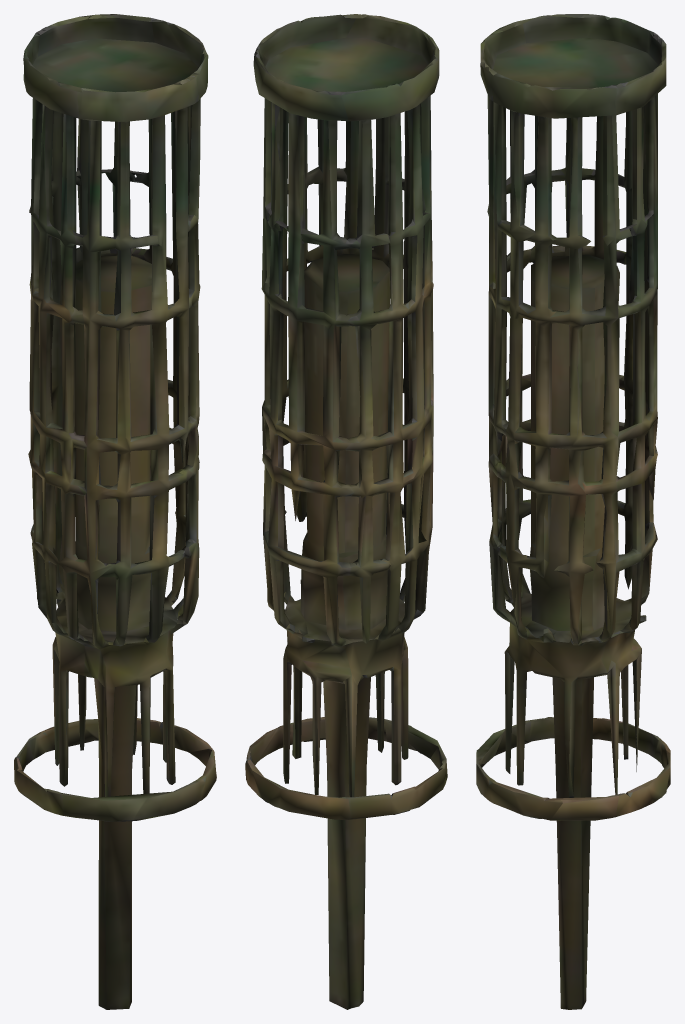
Rendered from sturdy-bronze-wall-torch-v002.glb.
The picture shows the model from 3 angles, left to right: view 1: azimuth 30°, elevation 25°; view 2: azimuth 150°, elevation 25°; view 3: azimuth 270°, elevation 25°; orthographic projection.
Visible parts, largest first — view 1: sturdy-bronze-wall-torch; view 2: sturdy-bronze-wall-torch; view 3: sturdy-bronze-wall-torch.
Boxes of the visible parts, x1,y1,x2,y2 form: sturdy-bronze-wall-torch: (14,14,216,1009); sturdy-bronze-wall-torch: (245,14,447,1009); sturdy-bronze-wall-torch: (476,14,670,1009).
Bounding box in the file's own units: 0.122 × 0.6395 × 0.118.
Materials: 1 (1 with a texture image).
